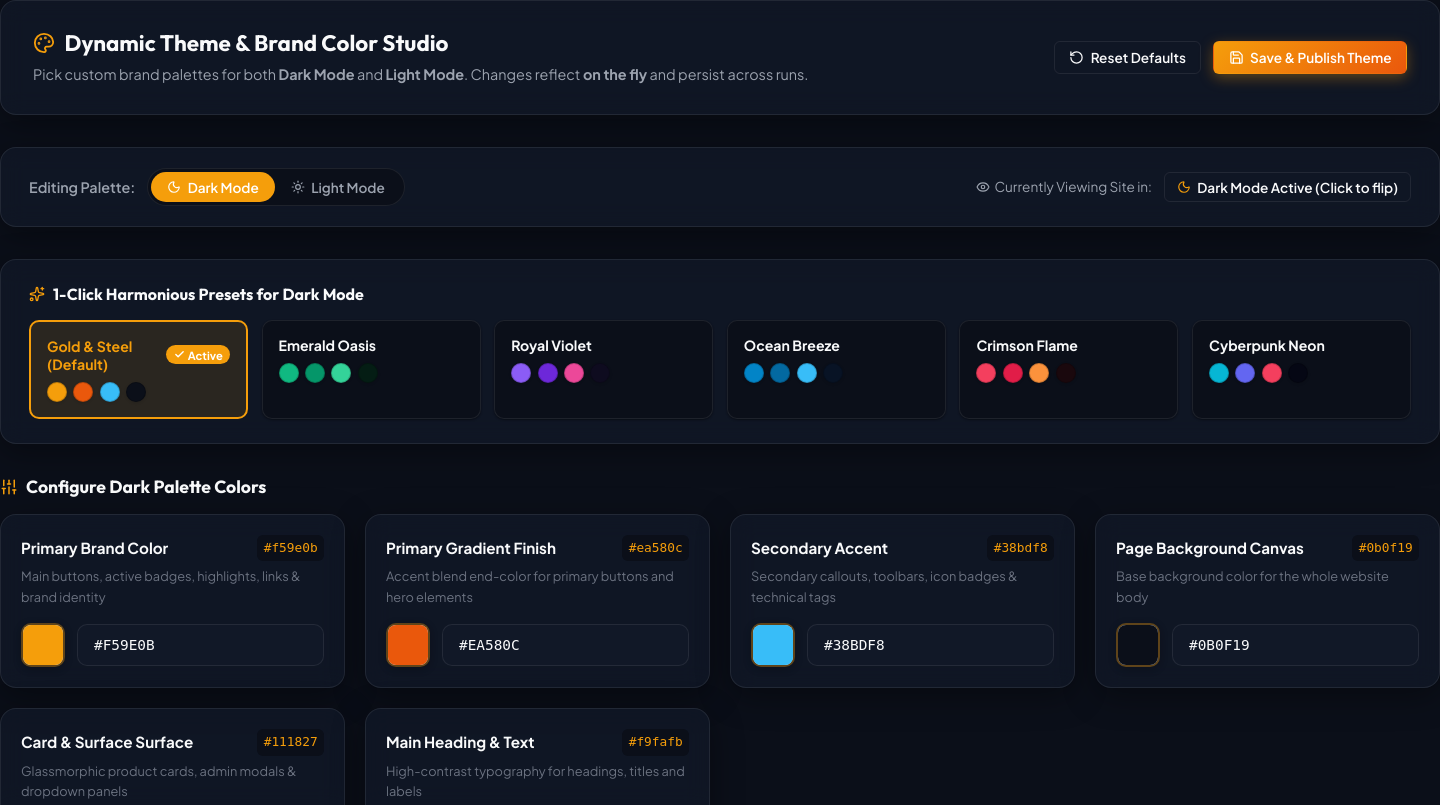
it: ThemeCustomizerTab Component › applies a preset on click
What coordinates should you click on to do the following:
click the button "Emerald Oasis"
I would click on:
 (371, 369)
Its box is [262, 320, 481, 419].
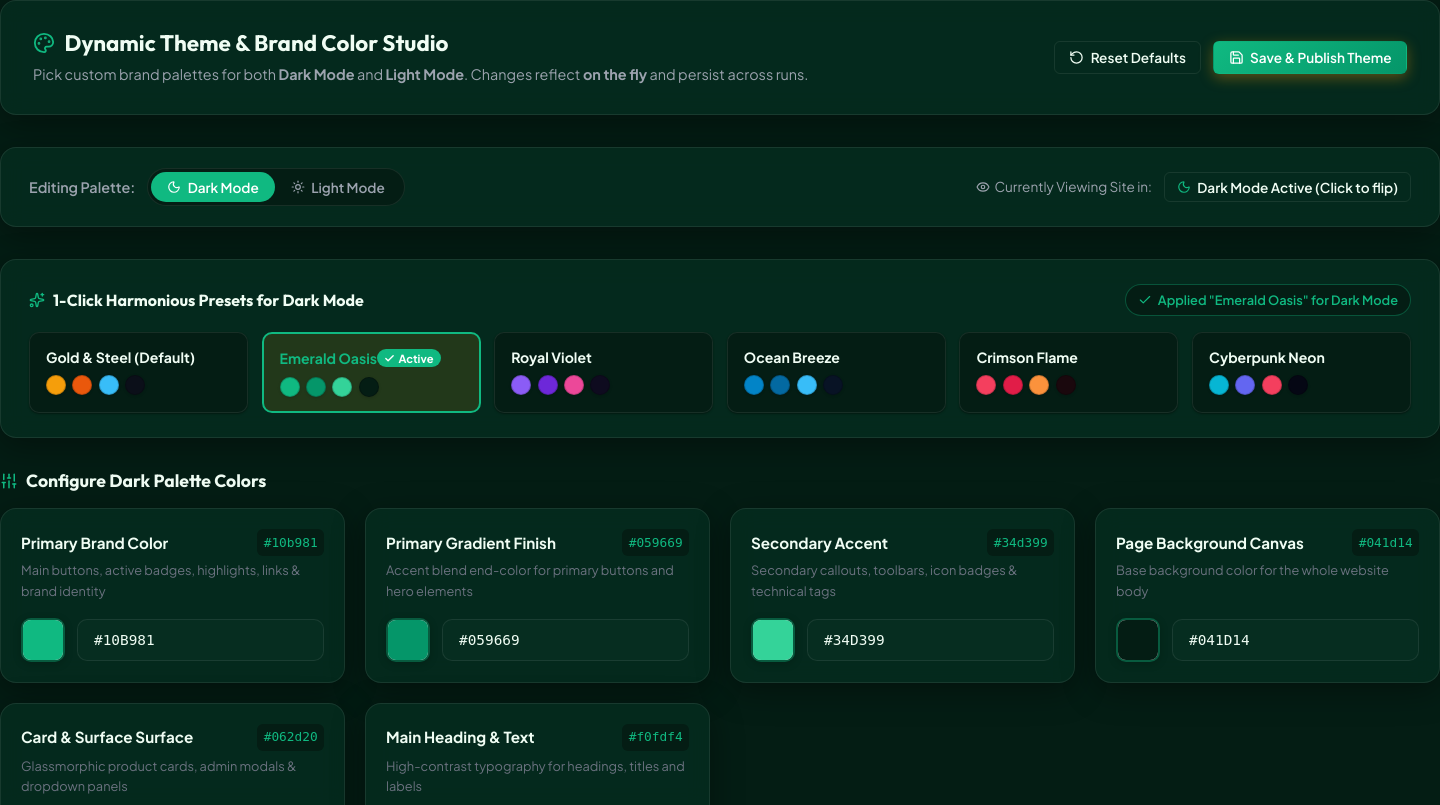
expect the text "#10b981" is shown: met, box [257, 529, 324, 556]
